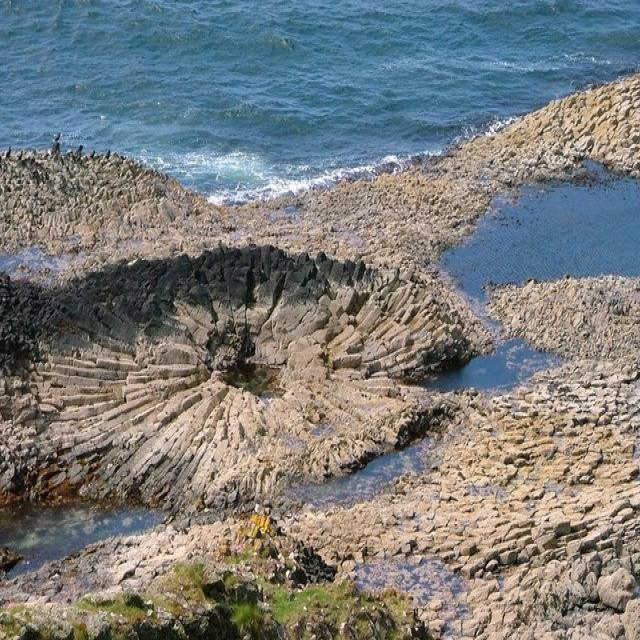Igneous: (1, 124, 640, 633)
